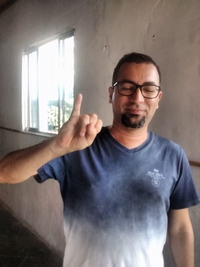oi: (58, 94, 105, 158)
